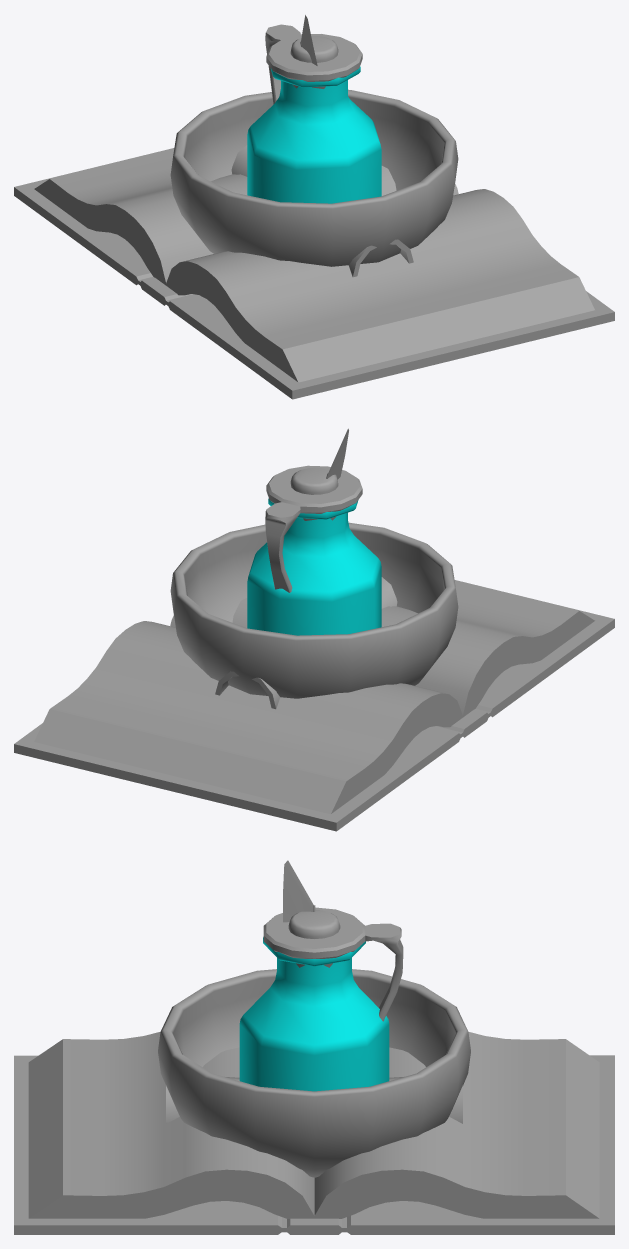
The model's file is props Unity Export.fbx.
3 views of the same model, one above another, from view 1: azimuth 30°, elevation 25°; view 2: azimuth 150°, elevation 25°; view 3: azimuth 270°, elevation 25° (orthographic). The views are drawn at different scales.
Visible parts, largest first — view 1: book_pages, mortar, bottle_glass1, book_cover, candle_holder, scroll, pestal; view 2: book_pages, mortar, bottle_glass1, book_cover, candle_holder, pestal, scroll; view 3: book_pages, mortar, book_cover, bottle_glass1, candle_holder, pestal, feather_leaf_half, scroll.
Boxes of the visible parts, x1,y1,x2,y2 form: book_pages: (34,148,594,382); mortar: (170,89,458,266); bottle_glass1: (247,66,381,203); book_cover: (14,148,614,399); candle_holder: (265,24,362,104); scroll: (231,145,413,277); pestal: (290,36,338,62); book_pages: (34,580,594,814); mortar: (170,522,458,698); bottle_glass1: (247,498,381,635); book_cover: (14,580,614,831); candle_holder: (265,465,362,592); pestal: (290,467,338,494); scroll: (215,577,397,709); book_pages: (28,1031,599,1218); mortar: (158,969,470,1177); book_cover: (14,1055,614,1234); bottle_glass1: (239,937,389,1091); candle_holder: (263,907,403,1021); pestal: (288,909,340,938); feather_leaf_half: (283,860,313,922); scroll: (166,1077,462,1123).
Bounding box in the file's own units: 33.19 × 25.38 × 49.62.
